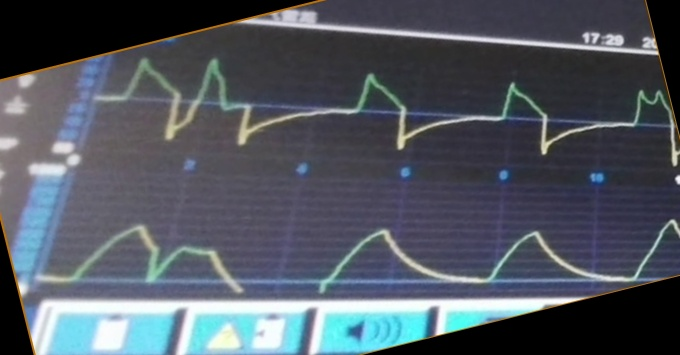Double_Triggering Flow: (119, 54, 680, 167)
Double_Triggering Volume: (76, 208, 677, 294)
